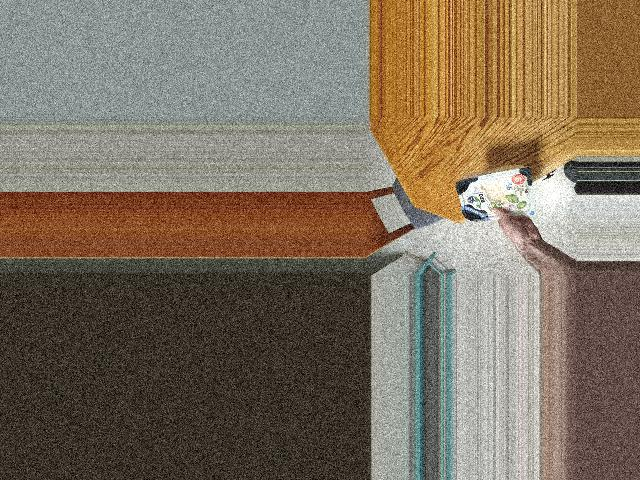cheese: (456, 165, 533, 223)
